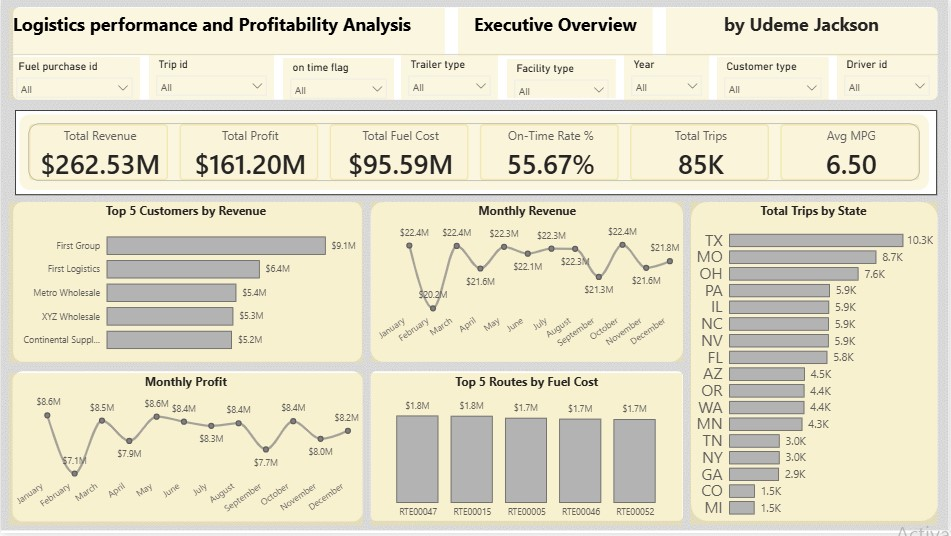

Layout of this report page (visuals, bound fields, positions):
{"tool":"powerbi","page":{"name":"Overview","canvas":[1280,720],"ordinal":1},"visuals":[{"type":"cardVisual","fields":{"Data":["_Measure.Total Revenue","_Measure.Total Profit","_Measure.Total Fuel Cost","_Measure.On-Time Rate %","_Measure.Total Trips","_Measure.Avg MPG"]},"box":[19.1,148.4,1246,114.6],"z":0},{"type":"slicer","fields":{"Values":["Trips.Driver id"]},"box":[1130,80.8,135.2,54.4],"z":1000},{"type":"slicer","fields":{"Values":["Customers.customer type"]},"box":[966.9,83.8,151.3,47],"z":2000},{"type":"slicer","fields":{"Values":["Loads.Load date.Variation.Date Hierarchy.Year"]},"box":[842,80.8,114.6,51.4],"z":3000},{"type":"slicer","fields":{"Values":["Facilities.Facility type"]},"box":[683.3,79.3,146.9,52.9],"z":4000},{"type":"slicer","fields":{"Values":["Trailers.Trailer type"]},"box":[540.7,74.9,130.8,60.2],"z":5000},{"type":"textbox","box":[19.1,10.3,580.4,64.7],"z":6000},{"type":"textbox","box":[617.1,10.3,263,64.7],"z":7000},{"type":"textbox","box":[899.3,10.3,365.9,64.7],"z":8000},{"type":"clusteredBarChart","title":"Top 5 Customers by Revenue","fields":{"Category":["Customers.customer name"],"Y":["_Measure.Total Revenue"]},"box":[19.1,273.3,468.7,211.6],"z":9000},{"type":"lineChart","title":"Monthly Revenue","fields":{"Category":["Loads.Load date.Variation.Date Hierarchy.Month"],"Y":["_Measure.Total Revenue"]},"box":[499.6,273.3,421.7,216],"z":10000},{"type":"lineChart","title":"Monthly Profit","fields":{"Category":["Loads.Load date.Variation.Date Hierarchy.Month"],"Y":["_Measure.Total Profit"]},"box":[19.1,504,468.7,205.7],"z":11000},{"type":"clusteredBarChart","title":"Total Trips by State","fields":{"Category":["Routes.Origin state"],"Y":["_Measure.Total Trips"]},"box":[931.6,273.3,333.6,436.4],"z":12000},{"type":"columnChart","title":"Top 5 Routes by Fuel Cost","fields":{"Category":["Routes.Route id"],"Y":["_Measure.Total Fuel Cost"]},"box":[499.6,504,421.7,205.7],"z":13000},{"type":"slicer","fields":{"Values":["Delivery events.on time flag"]},"box":[380.6,77.9,149.9,57.3],"z":14000},{"type":"slicer","fields":{"Values":["Trips.Trip id"]},"box":[199.8,74.9,169,60.2],"z":15000},{"type":"slicer","fields":{"Values":["Fuel purchases.Fuel purchase id"]},"box":[19.1,77.9,167.5,57.3],"z":16000}]}

Visuals, with their boxes in screenshot pixels (x1, y1, x2, y2), scaled from the page's 1280x720 canvas onto the 951x536 screenshot:
cardVisual - _Measure.Total Revenue x _Measure.Total Profit: left=14, top=110, right=940, bottom=196
slicer - Trips.Driver id: left=840, top=60, right=940, bottom=101
slicer - Customers.customer type: left=718, top=62, right=831, bottom=97
slicer - Loads.Load date.Variation.Date Hierarchy.Year: left=626, top=60, right=711, bottom=98
slicer - Facilities.Facility type: left=508, top=59, right=617, bottom=98
slicer - Trailers.Trailer type: left=402, top=56, right=499, bottom=101
textbox: left=14, top=8, right=445, bottom=56
textbox: left=458, top=8, right=654, bottom=56
textbox: left=668, top=8, right=940, bottom=56
"Top 5 Customers by Revenue" clusteredBarChart: left=14, top=203, right=362, bottom=361
"Monthly Revenue" lineChart: left=371, top=203, right=684, bottom=364
"Monthly Profit" lineChart: left=14, top=375, right=362, bottom=528
"Total Trips by State" clusteredBarChart: left=692, top=203, right=940, bottom=528
"Top 5 Routes by Fuel Cost" columnChart: left=371, top=375, right=684, bottom=528
slicer - Delivery events.on time flag: left=283, top=58, right=394, bottom=101
slicer - Trips.Trip id: left=148, top=56, right=274, bottom=101
slicer - Fuel purchases.Fuel purchase id: left=14, top=58, right=139, bottom=101
